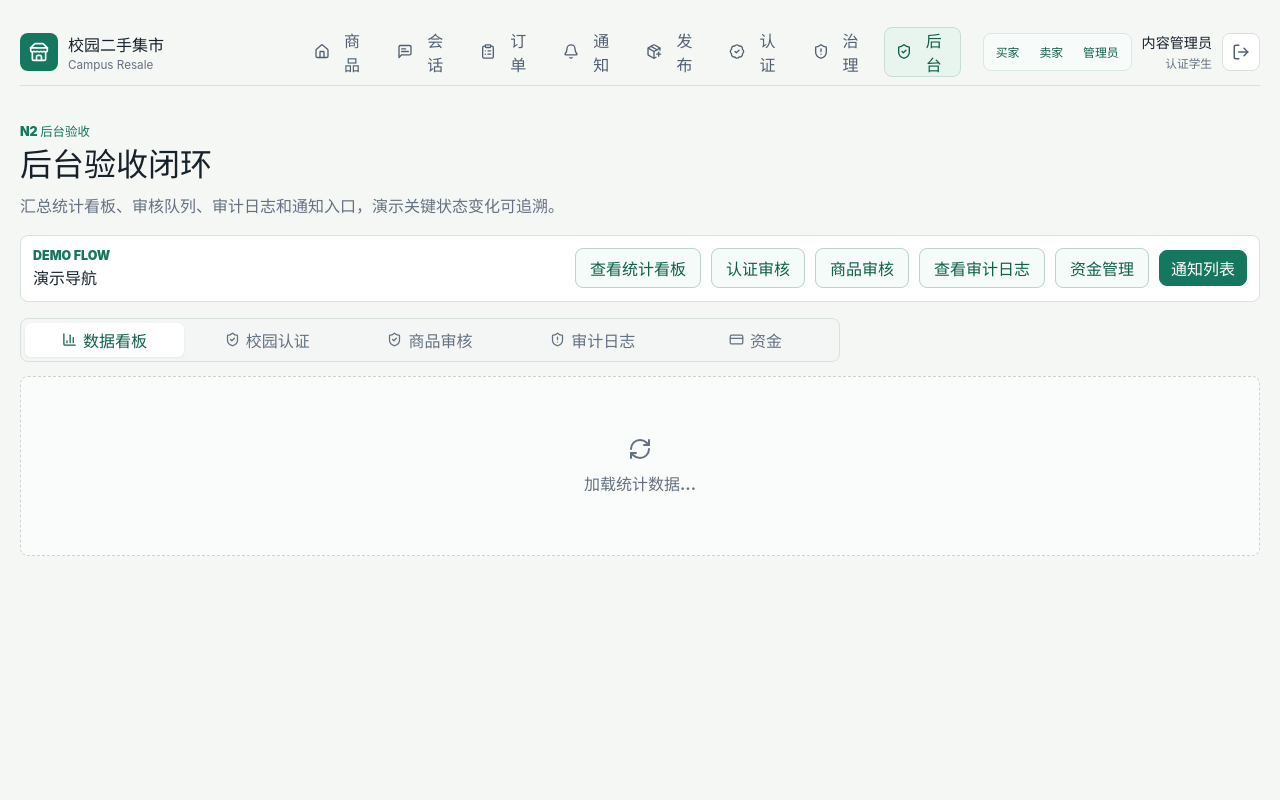
Scenario: App › shows the N2 admin acceptance workspace with demo navigation
Expected: the heading "后台验收闭环" is shown, [20,145,212,184]
Expected: the button "后台" is shown, [884,26,961,76]
Click the button "查看审计日志" at coordinates (982, 268), box [919,248,1045,288]
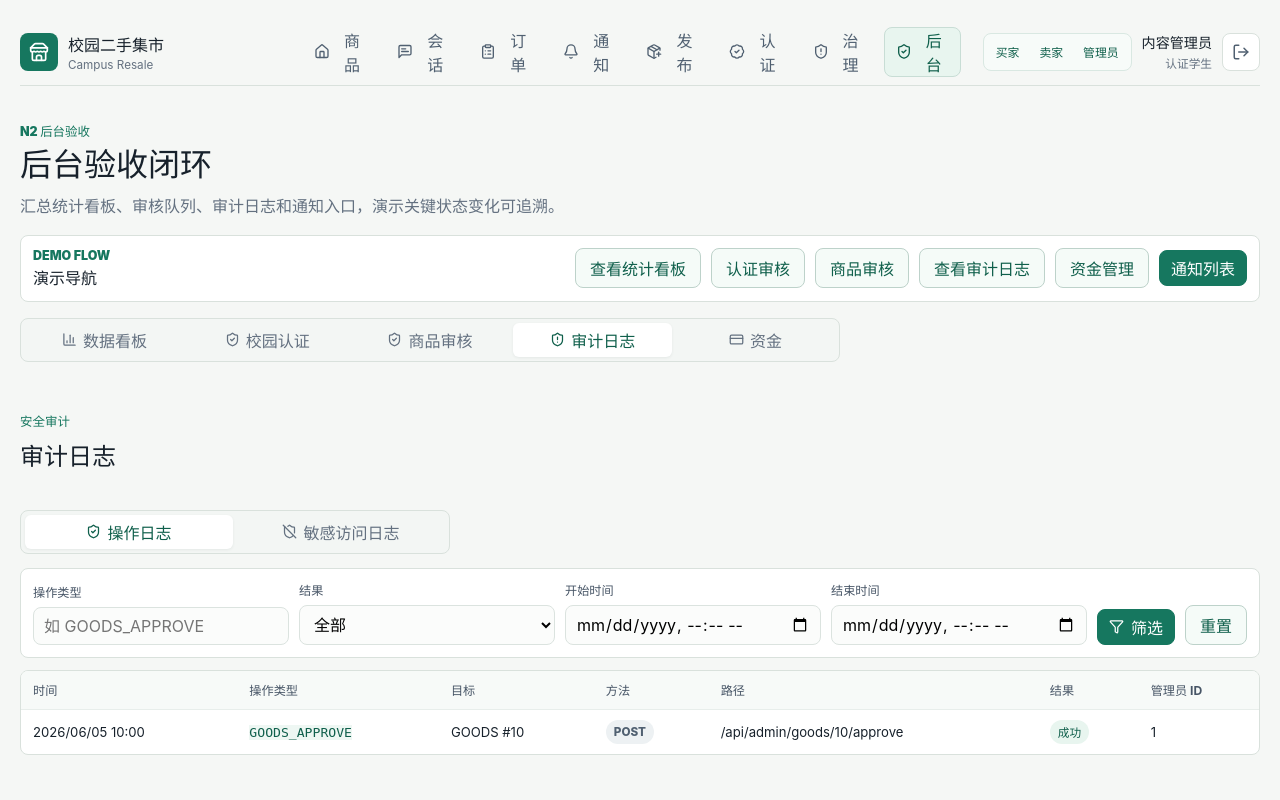
Expected: the button "操作日志" is shown, [25,515,233,549]
